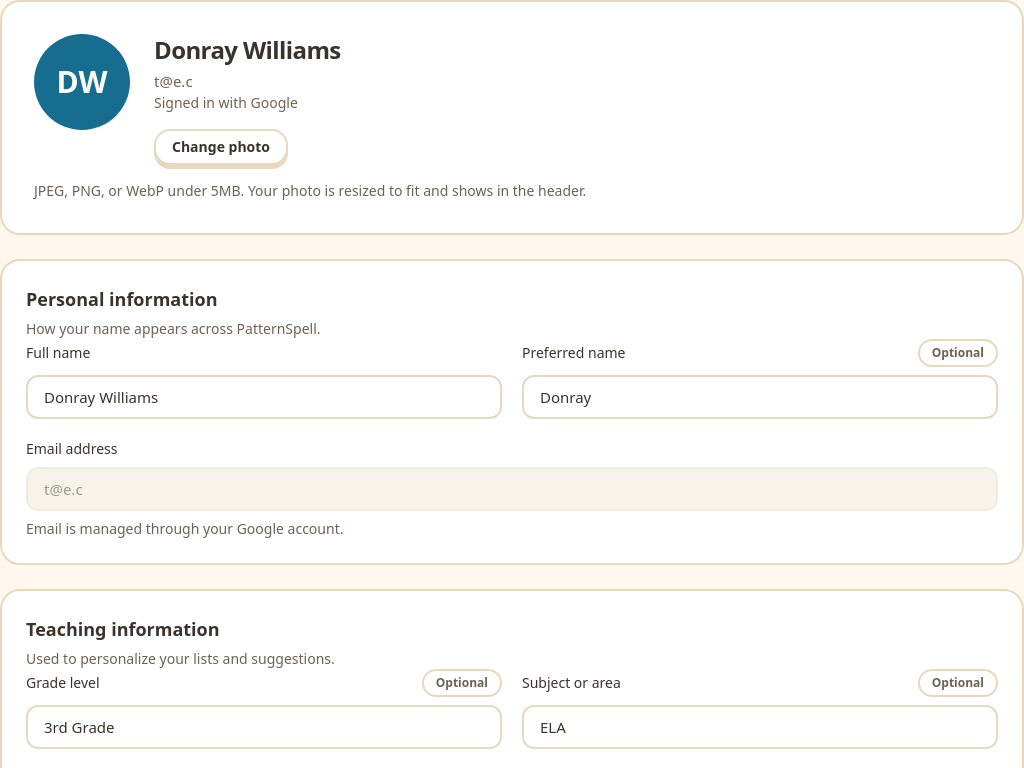
ProfileForm › auto-saves changed fields with a PUT after the debounce
Step 1. Replace the text in the field labelled "Full name" with "Donray W." → {"x": 264, "y": 396}, box [26,374,502,418]
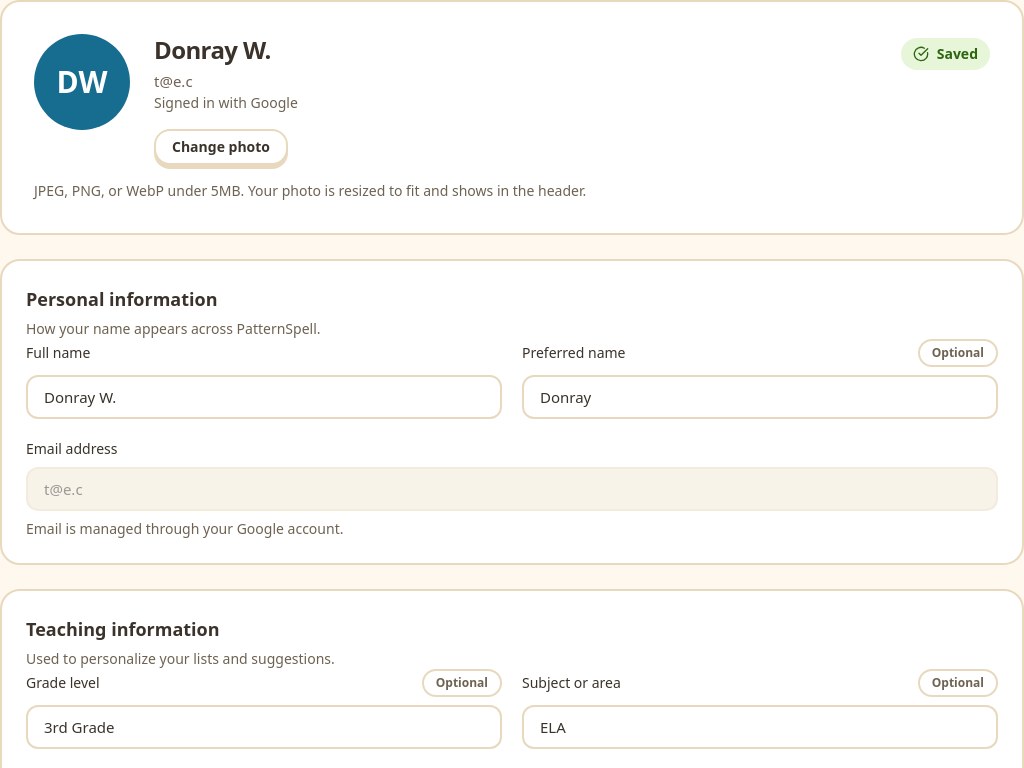
Expected: the heading "Donray W." is shown, [154,33,271,66]
Expected: the text "Saved" is shown, [901,38,990,70]
